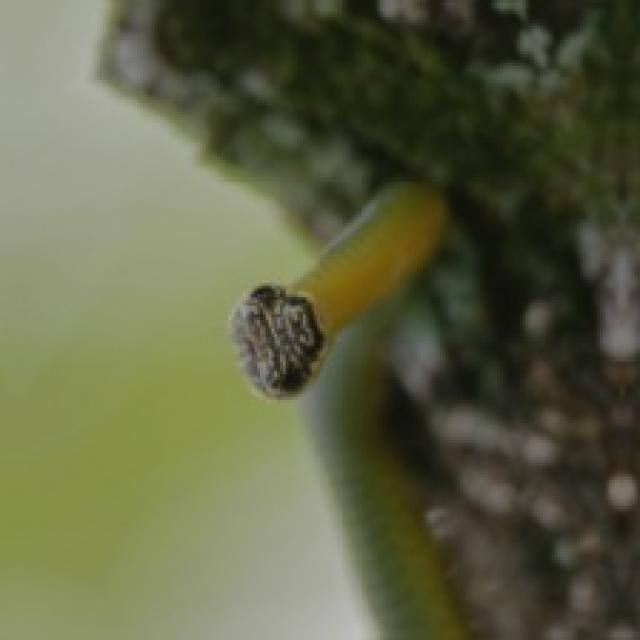paradise tree snake: (103, 0, 637, 637), (231, 183, 443, 394)
